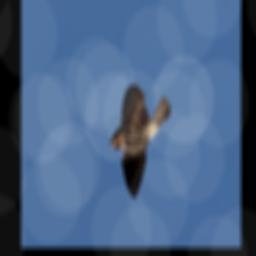Swallow: (106, 82, 172, 200)
